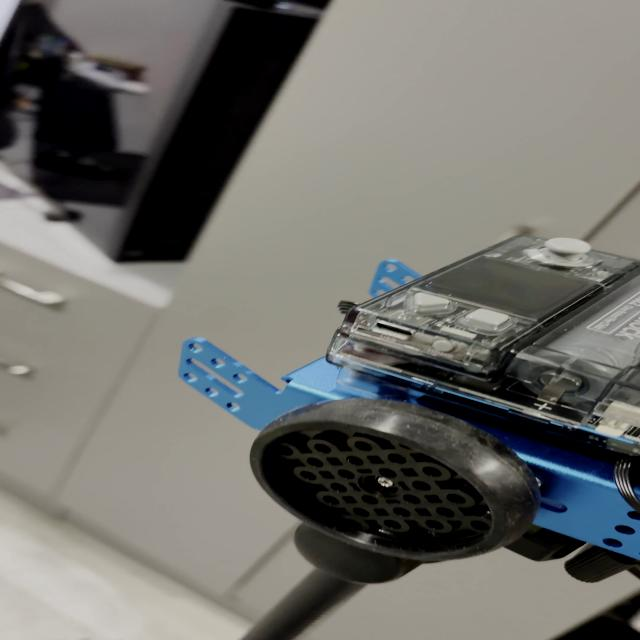mbot-detection: (170, 229, 640, 564)
